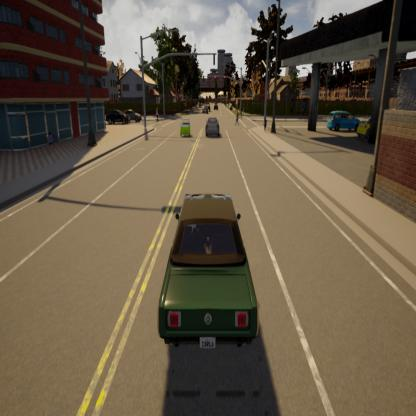Cars: (146, 183, 269, 354), (326, 107, 362, 138), (102, 105, 130, 130), (124, 105, 143, 129), (206, 116, 221, 140), (176, 115, 193, 136)
Pedestrian: (235, 99, 243, 126), (155, 103, 161, 124)
